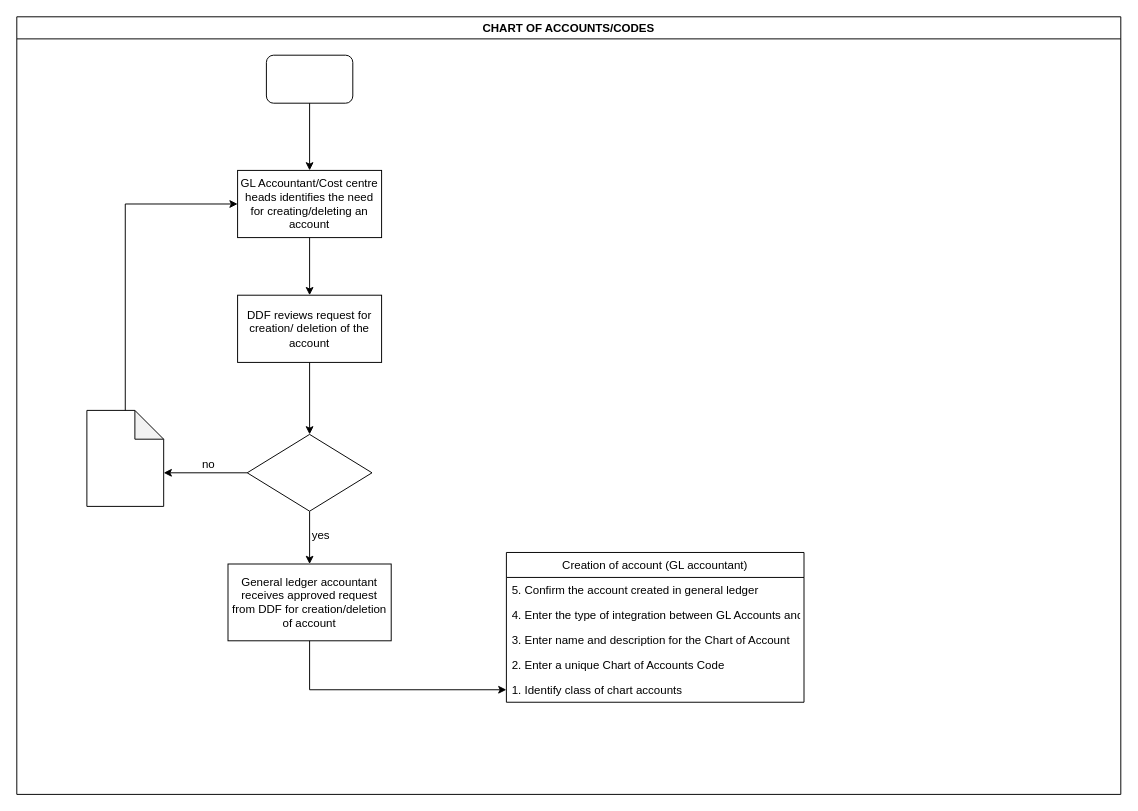
The diagram is 1138 pixels wide and 811 high, and some of its shapes have lost their labels. The shapes that lost their labels are listed below. From the top down, each one's box as (x1, y1, x2, y2) in pixels, then its label:
(265, 54, 353, 103): Start
(86, 409, 164, 506): Feedback to the requesting office
(246, 433, 372, 511): DDF Approves request?
